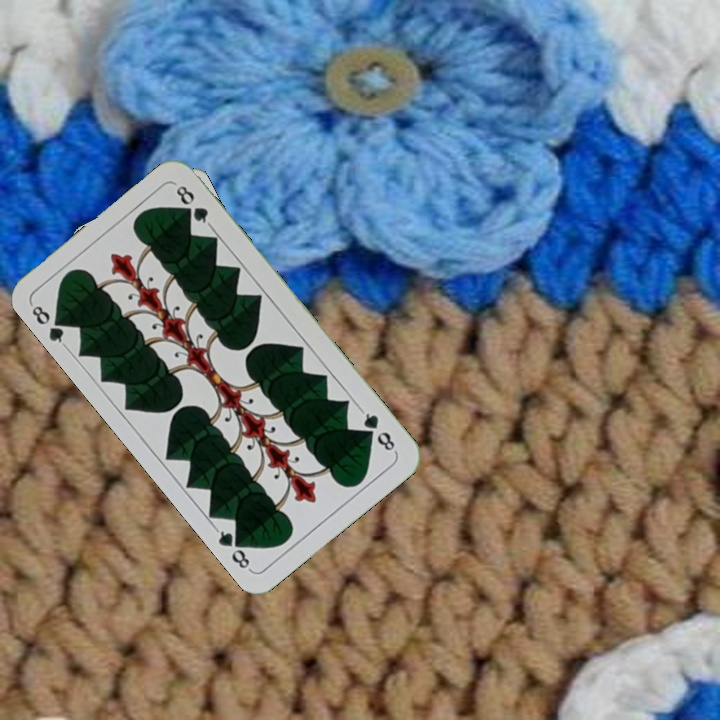G8: (26, 300, 71, 350), (356, 406, 399, 455)
